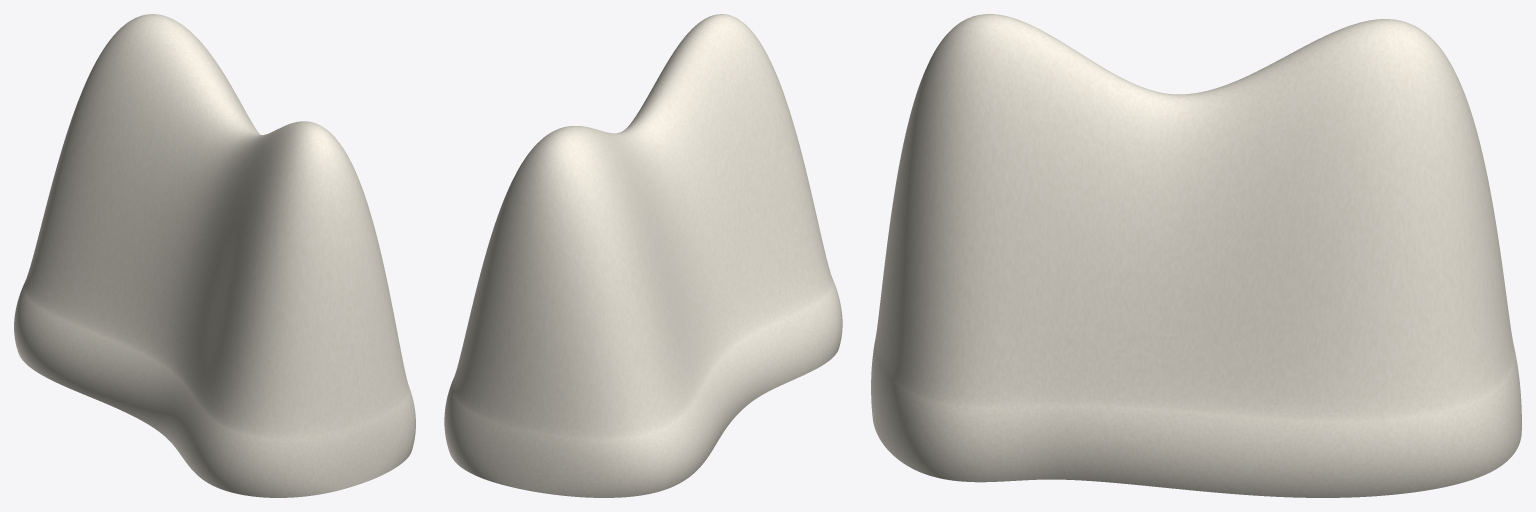
The model's file is museum_walls.glb.
3 views of the same model, side by side, from view 1: azimuth 30°, elevation 25°; view 2: azimuth 150°, elevation 25°; view 3: azimuth 270°, elevation 25° (orthographic). The views are drawn at different scales.
Parts seen in each view (by area): view 1: PAREDES_Sala; view 2: PAREDES_Sala; view 3: PAREDES_Sala.
Boxes of the visible parts, box(x1,y1,x2,y2) form: PAREDES_Sala: box(14, 14, 415, 497); PAREDES_Sala: box(444, 14, 842, 497); PAREDES_Sala: box(871, 14, 1521, 497).
Size of the model in its own units: 5.84 by 7.48 by 10.69.
Materials: 2 (1 with a texture image).
